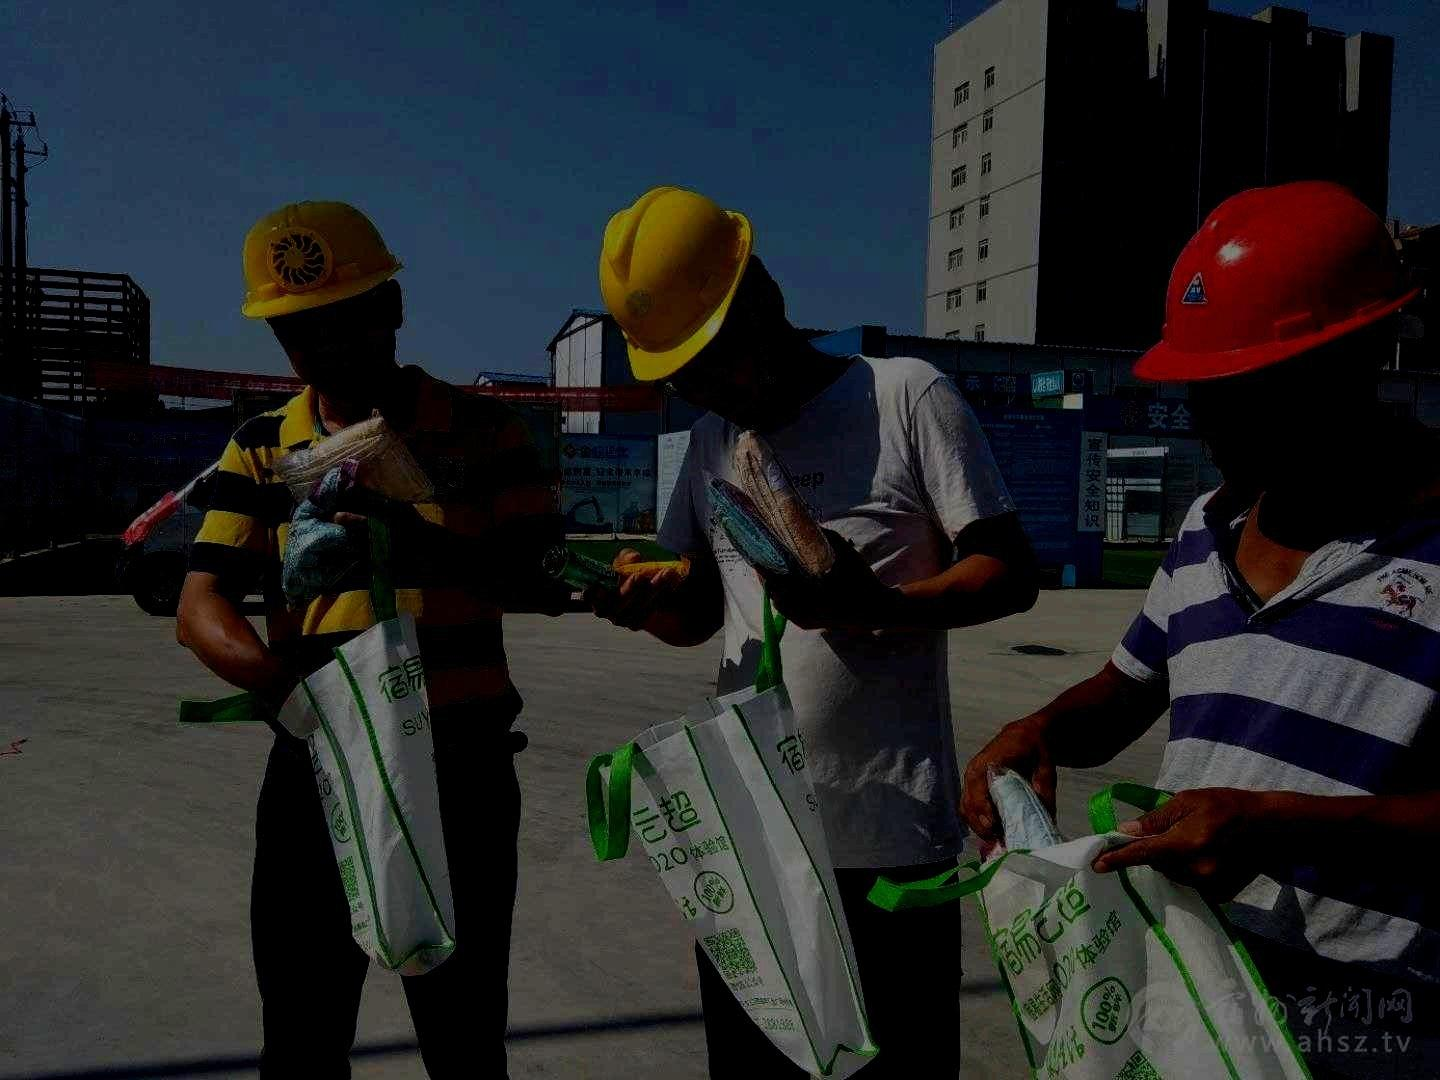helmet: (1130, 176, 1423, 503), (598, 184, 787, 427), (240, 199, 403, 398)
